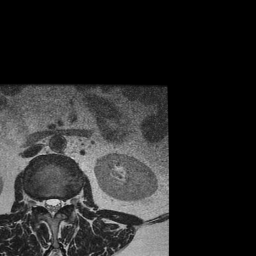CCS_normal: (49, 193, 55, 221)
LFS_stenosis: (62, 194, 70, 211)
LLS_normal: (55, 194, 62, 216)
RFS_stenosis: (35, 193, 43, 212)
RLS_normal: (43, 194, 49, 216)
